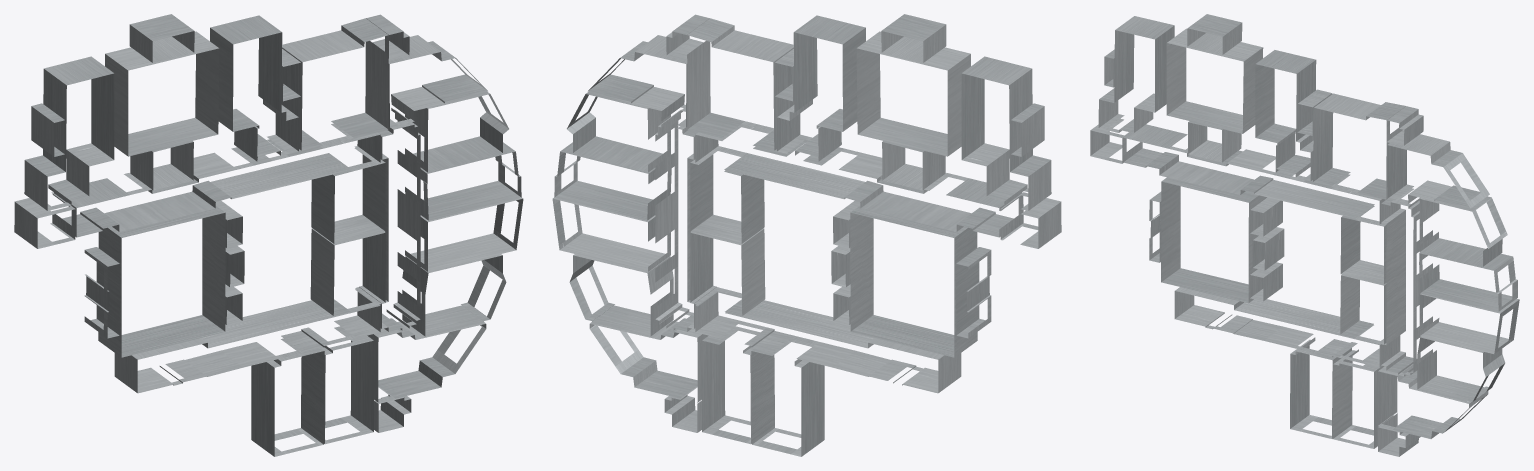
Rendered from wall.obj.
3 views of the same model, side by side, from view 1: azimuth 30°, elevation 25°; view 2: azimuth 150°, elevation 25°; view 3: azimuth 330°, elevation 25° (orthographic). The views are drawn at different scales.
Parts seen in each view (by area): view 1: area3_wall; view 2: area3_wall; view 3: area3_wall.
Boxes of the visible parts, <box> form: area3_wall: <box>14,14,523,456</box>; area3_wall: <box>552,14,1061,456</box>; area3_wall: <box>1090,14,1519,456</box>.
Size of the model in its own units: 29.12 by 25.61 by 2.4.
Materials: 1 (1 with a texture image).
